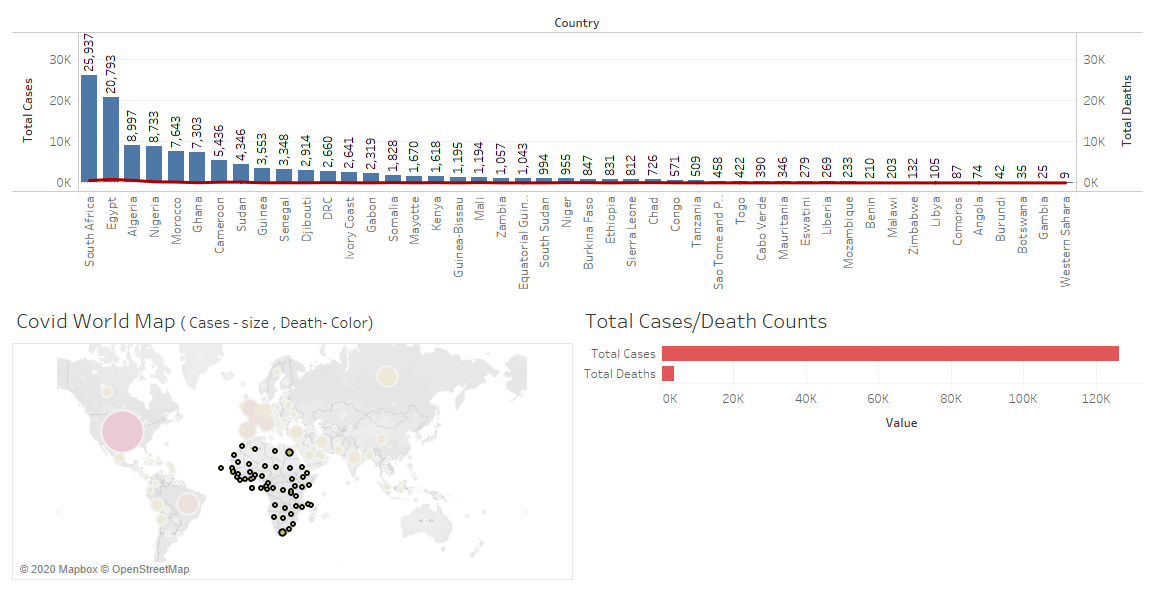

This screenshot's page, from the dashboard's own definition file:
{"tool":"tableau","page":{"name":"Combined Dashboard","canvas":[1000,1000],"units":"permille","ordinal":0},"visuals":[{"type":"worksheet","box":[0,0,1000,1000]},{"type":"worksheet","title":"Covid Combo Chart","mark":"Bar","rows":["Total Cases","Total Deaths"],"cols":["Country"],"box":[6.9,13.5,986.1,486.5]},{"type":"worksheet","param":"horz","box":[6.9,500,986.1,486.5]},{"type":"worksheet","box":[6.9,500,986.1,486.5]},{"type":"worksheet","title":"Covid World Map","mark":"Circle","box":[6.9,500,493.1,486.5]},{"type":"worksheet","title":"Total cases vs death","mark":"Automatic","box":[500,500,493.1,486.5]}]}

Visuals, with their boxes on the dashboard's canvas, which has no fixed pixel size, in thousandths of its width and height (x1, y1, x2, y2). These are canvas units, not pixel positions in the 1155x592 screenshot, which may show the page scaled, cropped or inside an application window:
worksheet: (x1=0, y1=0, x2=1000, y2=1000)
"Covid Combo Chart" worksheet (Bar marks): (x1=7, y1=14, x2=993, y2=500)
worksheet: (x1=7, y1=500, x2=993, y2=986)
worksheet: (x1=7, y1=500, x2=993, y2=986)
"Covid World Map" worksheet (Circle marks): (x1=7, y1=500, x2=500, y2=986)
"Total cases vs death" worksheet: (x1=500, y1=500, x2=993, y2=986)
